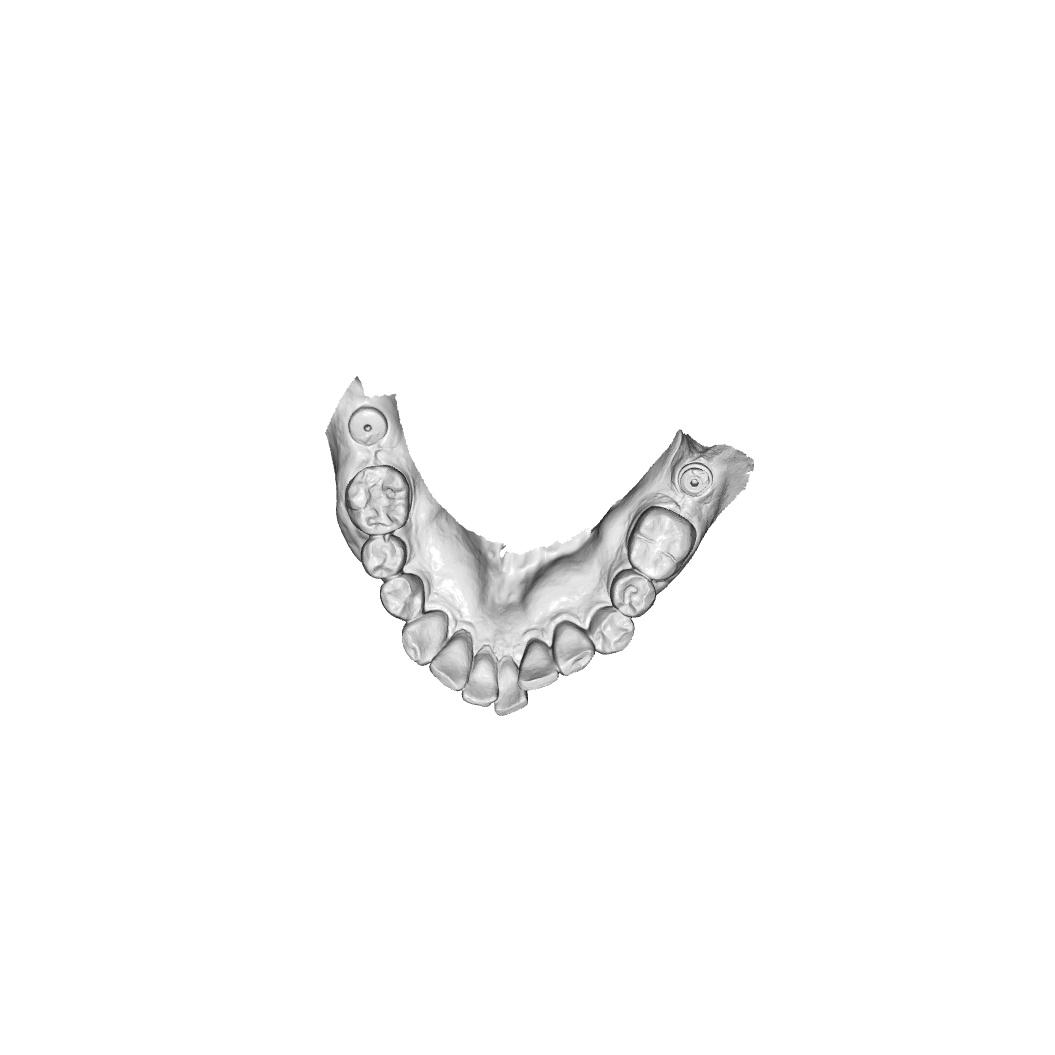canine: (400, 608, 451, 668), (550, 619, 598, 678)
implant: (346, 404, 389, 448), (676, 462, 715, 499)
incisor: (426, 633, 476, 693), (516, 637, 559, 692), (461, 651, 499, 709), (493, 659, 529, 718)
molar: (625, 503, 698, 583), (343, 464, 413, 537)
premolar: (607, 568, 657, 619), (586, 605, 636, 656), (378, 571, 427, 623), (358, 534, 410, 580)
